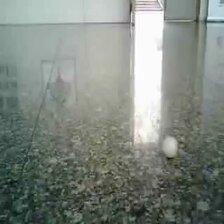w: (161, 136, 180, 159)
